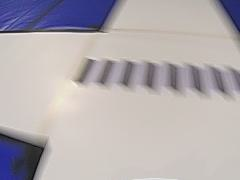CrossWalk: (61, 51, 240, 102)
